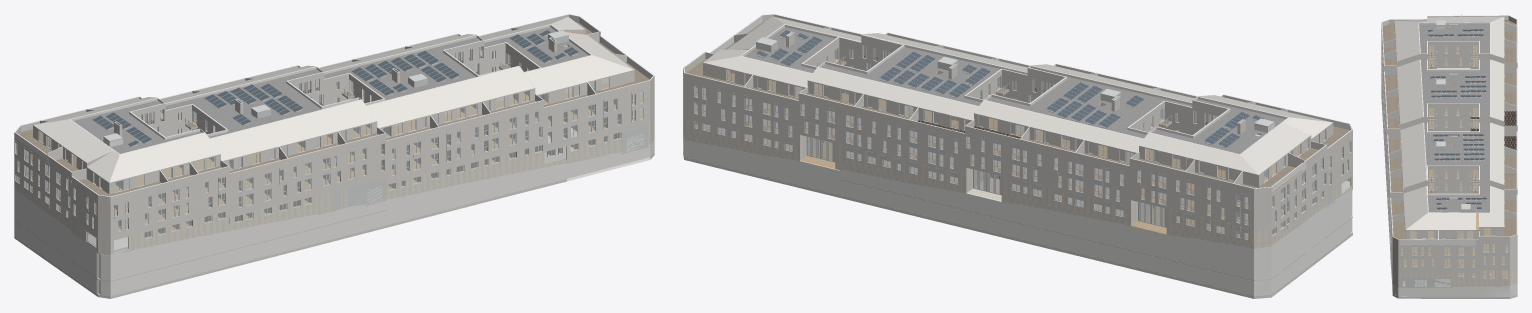
File: apolo_envolvente.glb
3 views of the same model, side by side, from view 1: azimuth 30°, elevation 25°; view 2: azimuth 150°, elevation 25°; view 3: azimuth 270°, elevation 25° (orthographic). The views are drawn at different scales.
Parts seen in each view (by area): view 1: envolvente__T2__APOLO V6 | Monocapa blanco roto 5pct calido, envolvente__T2__APOLO V6 | Pintura interior blanca mate, envolvente__T2__APOLO V6 | Travertino marfil veta vertical, envolvente__T2__APOLO V6 | Gravilla gris claro cubierta, envolvente__T2__APOLO V3 | Vinilo roble natural claro, carpinteria__T5__APOLO V6 | Aluminio plata grata, carpinteria__T3__APOLO V6 | Aluminio plata grata, envolvente__T2__APOLO | Tarima exterior greige, carpinteria__T1__APOLO V6 | Aluminio plata grata, envolvente__T2__APOLO V6 | Aluminio plata grata, envolvente__T4__V6_FV_Celulas_antracita, envolvente__T2__V6_FV_Celulas_antracita (+10 smaller); view 2: envolvente__T2__APOLO V6 | Monocapa blanco roto 5pct calido, envolvente__T2__APOLO V6 | Pintura interior blanca mate, envolvente__T2__APOLO V6 | Travertino marfil veta vertical, envolvente__T2__APOLO V6 | Gravilla gris claro cubierta, envolvente__T2__APOLO V3 | Vinilo roble natural claro, carpinteria__T0__APOLO V6 | Aluminio plata grata, carpinteria__T2__APOLO V6 | Aluminio plata grata, carpinteria__T4__APOLO V6 | Aluminio plata grata, envolvente__T2__APOLO V6 | Aluminio plata grata, envolvente__T2__APOLO | Tarima exterior greige, envolvente__T4__V6_FV_Celulas_antracita, carpinteria__T6__APOLO V6 | Aluminio plata grata (+8 smaller); view 3: envolvente__T2__APOLO V6 | Monocapa blanco roto 5pct calido, envolvente__T2__APOLO V6 | Gravilla gris claro cubierta, envolvente__T2__APOLO V6 | Pintura interior blanca mate, envolvente__T2__APOLO | Tarima exterior greige, envolvente__T2__APOLO V6 | Travertino marfil veta vertical, envolvente__T2__APOLO V3 | Vinilo roble natural claro, carpinteria__T6__APOLO V6 | Aluminio plata grata, envolvente__T7__APOLO V6 | Aluminio plata grata, envolvente__T4__V6_FV_Celulas_antracita, envolvente__T2__APOLO V6 | Aluminio plata grata, envolvente__T2__V6_FV_Celulas_antracita, envolvente__T4__Tile_Interior_05_1K (+16 smaller).
Boxes of the visible parts, x1,y1,x2,y2 form: envolvente__T2__APOLO V6 | Monocapa blanco roto 5pct calido: (14,14,654,298); envolvente__T2__APOLO V6 | Pintura interior blanca mate: (14,14,654,296); envolvente__T2__APOLO V6 | Travertino marfil veta vertical: (14,120,654,254); envolvente__T2__APOLO V6 | Gravilla gris claro cubierta: (73,27,588,153); envolvente__T2__APOLO V3 | Vinilo roble natural claro: (16,30,642,234); carpinteria__T5__APOLO V6 | Aluminio plata grata: (386,90,542,190); carpinteria__T3__APOLO V6 | Aluminio plata grata: (229,124,384,222); envolvente__T2__APOLO | Tarima exterior greige: (19,22,649,196); carpinteria__T1__APOLO V6 | Aluminio plata grata: (73,156,225,253); envolvente__T2__APOLO V6 | Aluminio plata grata: (103,30,568,141); envolvente__T4__V6_FV_Celulas_antracita: (352,51,459,95); envolvente__T2__V6_FV_Celulas_antracita: (204,83,302,124); envolvente__T2__APOLO V6 | Monocapa blanco roto 5pct calido: (683,14,1352,298); envolvente__T2__APOLO V6 | Pintura interior blanca mate: (683,14,1352,296); envolvente__T2__APOLO V6 | Travertino marfil veta vertical: (683,114,1352,248); envolvente__T2__APOLO V6 | Gravilla gris claro cubierta: (744,27,1284,154); envolvente__T2__APOLO V3 | Vinilo roble natural claro: (695,48,1350,238); carpinteria__T0__APOLO V6 | Aluminio plata grata: (1136,138,1326,240); carpinteria__T2__APOLO V6 | Aluminio plata grata: (966,108,1164,218); carpinteria__T4__APOLO V6 | Aluminio plata grata: (800,76,1001,185); envolvente__T2__APOLO V6 | Aluminio plata grata: (756,37,1274,195); envolvente__T2__APOLO | Tarima exterior greige: (686,22,1349,188); envolvente__T4__V6_FV_Celulas_antracita: (879,51,990,97); carpinteria__T6__APOLO V6 | Aluminio plata grata: (694,49,838,151); envolvente__T2__APOLO V6 | Monocapa blanco roto 5pct calido: (1381,16,1517,298); envolvente__T2__APOLO V6 | Gravilla gris claro cubierta: (1419,24,1489,212); envolvente__T2__APOLO V6 | Pintura interior blanca mate: (1381,14,1517,296); envolvente__T2__APOLO | Tarima exterior greige: (1382,20,1516,239); envolvente__T2__APOLO V6 | Travertino marfil veta vertical: (1381,56,1517,287); envolvente__T2__APOLO V3 | Vinilo roble natural claro: (1400,45,1508,277); carpinteria__T6__APOLO V6 | Aluminio plata grata: (1427,201,1508,278); envolvente__T7__APOLO V6 | Aluminio plata grata: (1392,261,1450,287); envolvente__T4__V6_FV_Celulas_antracita: (1433,134,1484,160); envolvente__T2__APOLO V6 | Aluminio plata grata: (1428,20,1479,212); envolvente__T2__V6_FV_Celulas_antracita: (1430,76,1486,97); envolvente__T4__Tile_Interior_05_1K: (1470,111,1516,149).
Bounding box in the file's own units: 111 × 24.28 × 31.2.
Materials: 35 (10 with a texture image).
